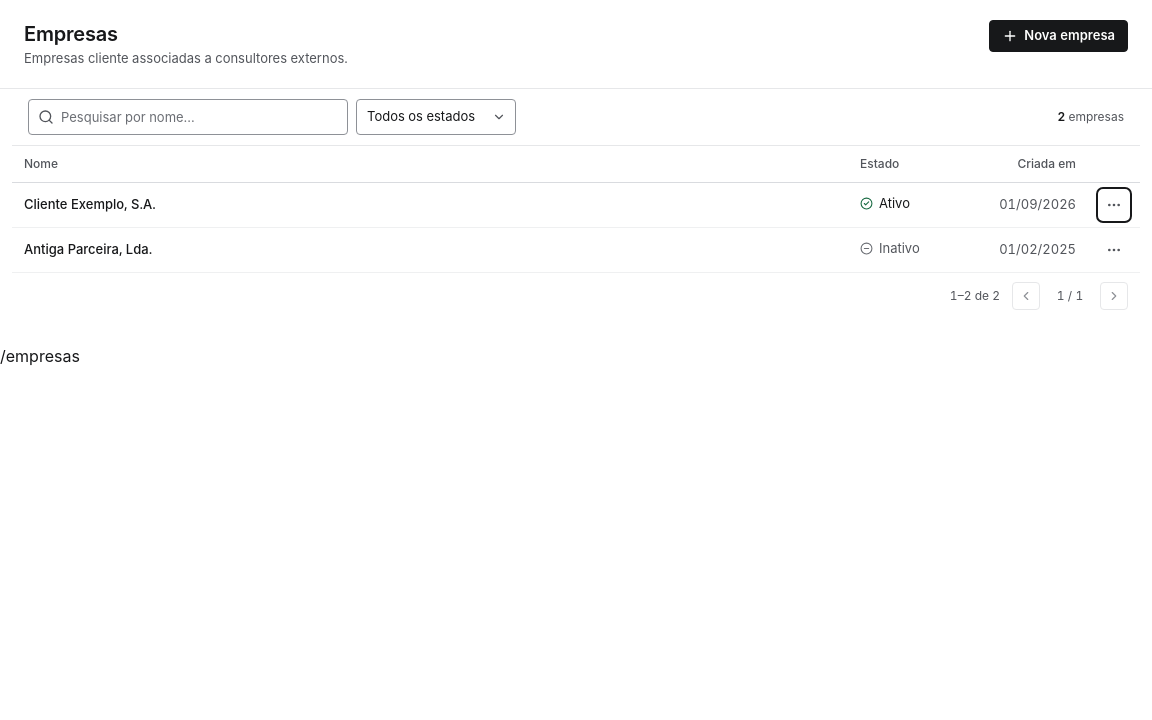
it: CompaniesPage › does not navigate when a row-menu action is used
Press Enter
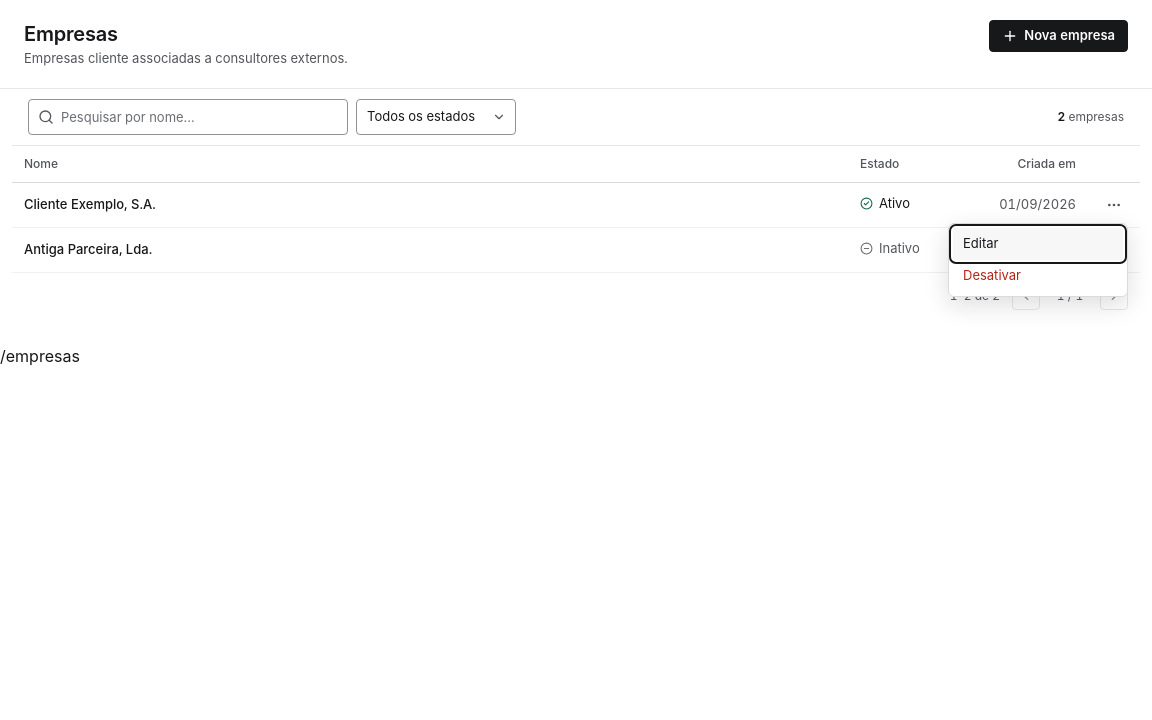
Click the menu item "Editar".
click(1038, 244)  # box [953,228,1123,260]
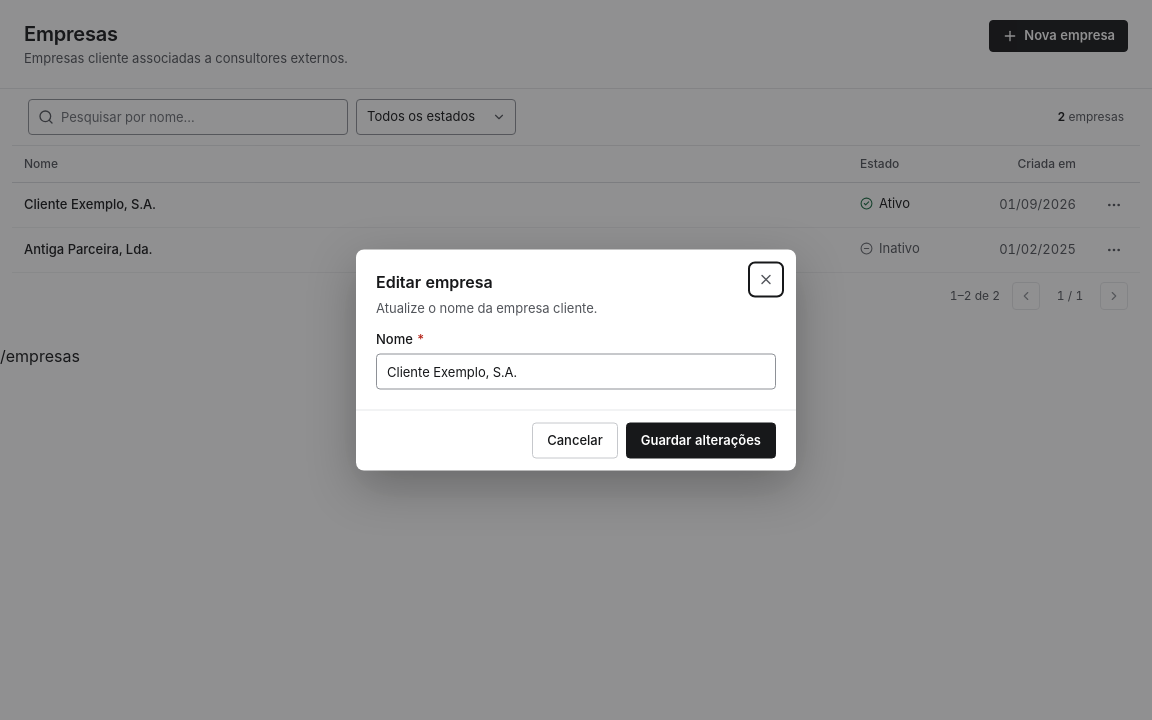
Expected: the text with test id "location" reads "/empresas", [0,346,80,366]
Expected: the dialog "Editar empresa" is shown, [356,250,796,470]
